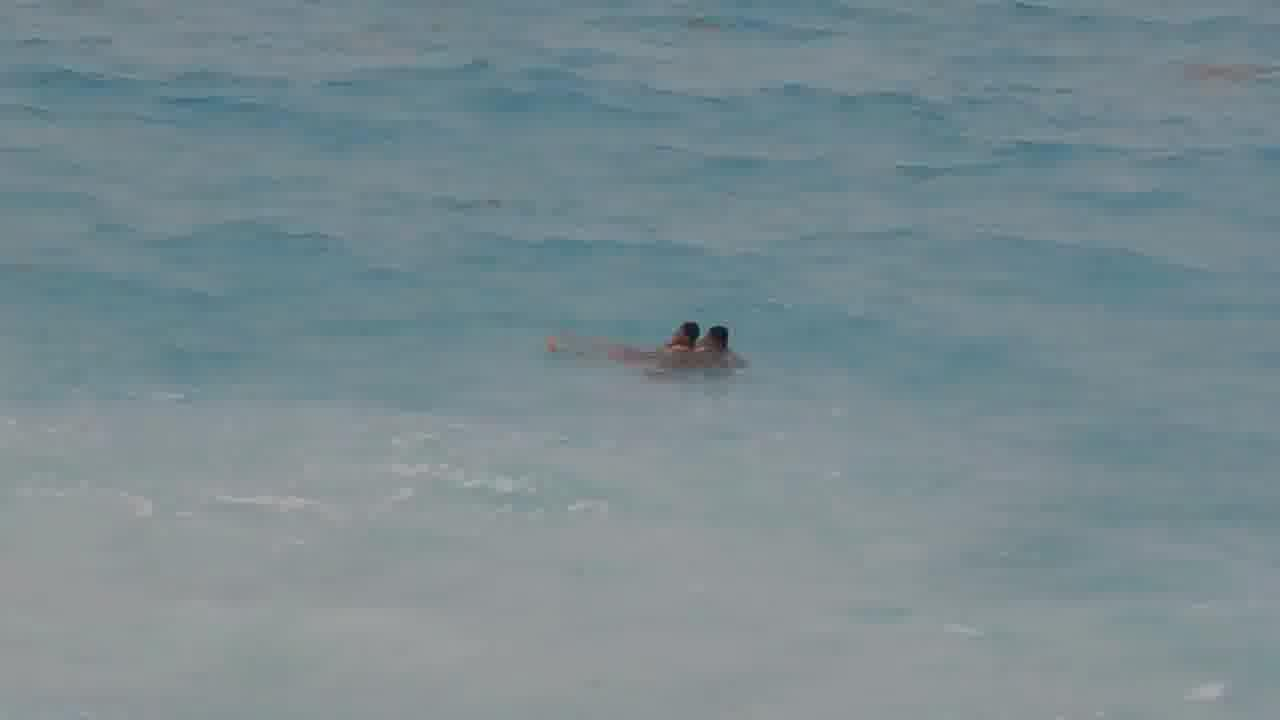human: (542, 308, 701, 366), (693, 318, 752, 370)
